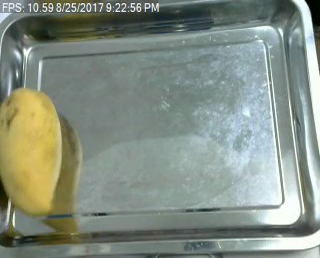Mango: (0, 87, 67, 213)
